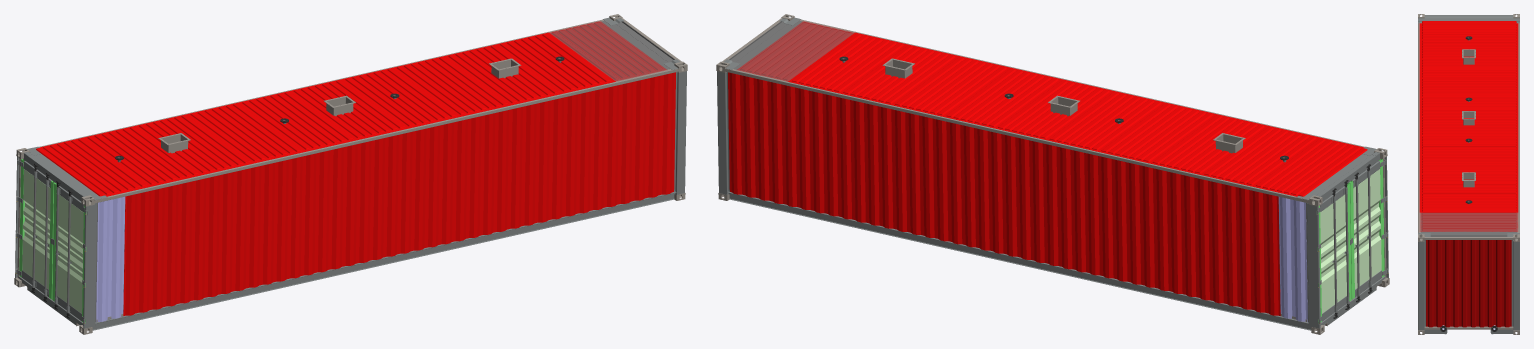
Rendered from assembly-02.glb.
The picture shows the model from 3 angles, left to right: view 1: azimuth 30°, elevation 25°; view 2: azimuth 150°, elevation 25°; view 3: azimuth 270°, elevation 25°; orthographic projection. The views are drawn at different scales.
Visible parts, largest first — view 1: 40尺驗氧發酵貨櫃.20251031.-2; view 2: 40尺驗氧發酵貨櫃.20251031.-2; view 3: 40尺驗氧發酵貨櫃.20251031.-2.
Boxes of the visible parts, left/top/right/bottom form: 40尺驗氧發酵貨櫃.20251031.-2: left=14, top=14, right=687, bottom=334; 40尺驗氧發酵貨櫃.20251031.-2: left=716, top=14, right=1389, bottom=334; 40尺驗氧發酵貨櫃.20251031.-2: left=1418, top=14, right=1519, bottom=334.
Size of the model in its own units: 12.28 by 2.92 by 2.44.
